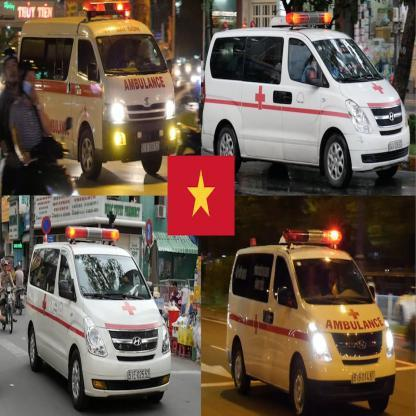Ambulance - v1 Ambulance last generate: (202, 20, 413, 178), (225, 238, 399, 410), (24, 245, 173, 405), (14, 18, 177, 159)
